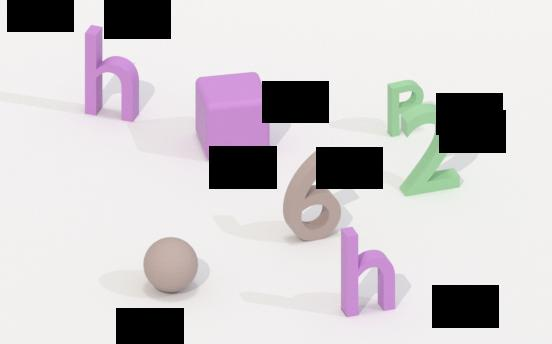2: (398, 100, 464, 201)
6: (280, 148, 343, 243)
cau: (141, 235, 201, 296)
h: (82, 22, 142, 125), (337, 222, 400, 320)
hop: (193, 68, 272, 163)
p: (386, 79, 429, 142)
